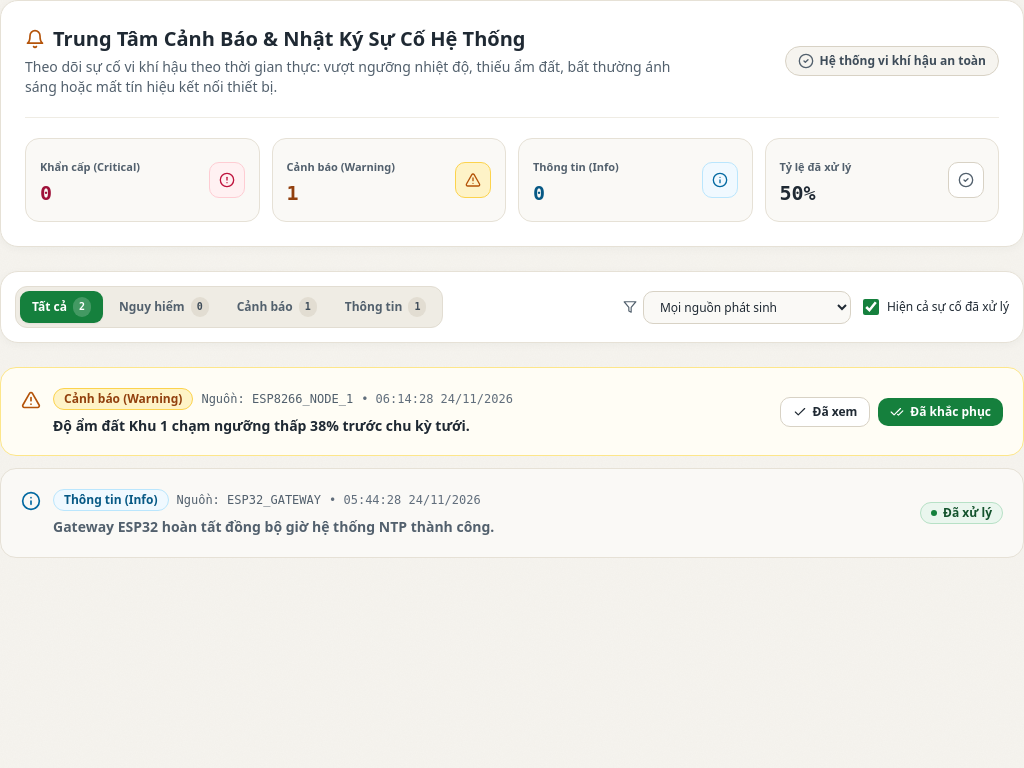
AlertsPage Incident Management › renders alerts and filters by severity levels
Expected: the text "Trung Tâm Cảnh Báo & Nhật Ký Sự Cố Hệ Thống" is shown, [53,25,526,53]
Expected: the text "Độ ẩm đất Khu 1 chạm ngưỡng thấp 38% trước chu kỳ tưới." is shown, [53,416,513,435]
// Filter by Critical tab
Click the button "Nguy hiểm 0".
click(164, 307)  # box [107,291,221,323]
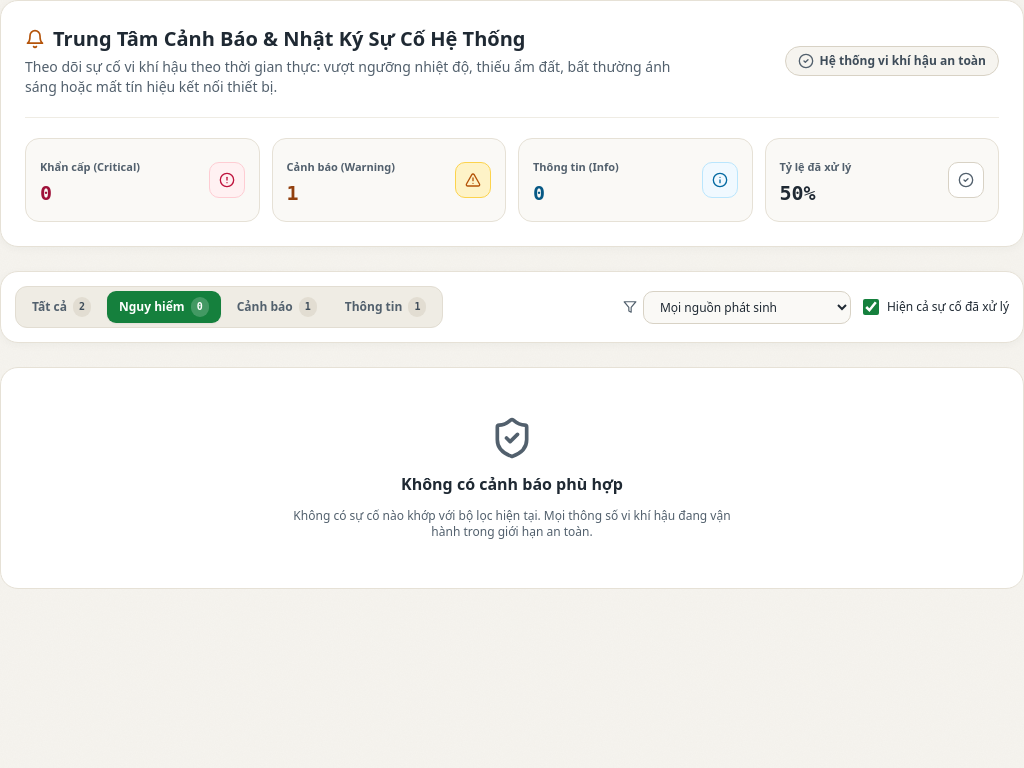
// Filter by Warning tab
Click the button "Cảnh báo 1".
click(277, 307)  # box [225,291,329,323]
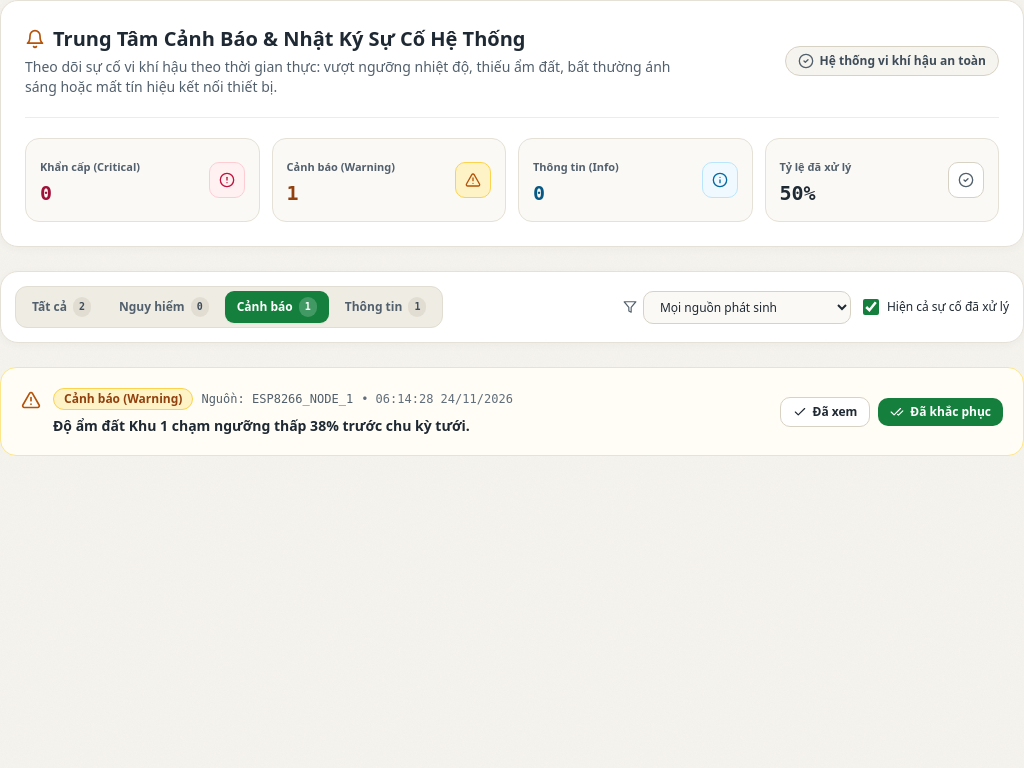
Expected: the text "Độ ẩm đất Khu 1 chạm ngưỡng thấp 38% trước chu kỳ tưới." is shown, [53,416,513,435]
